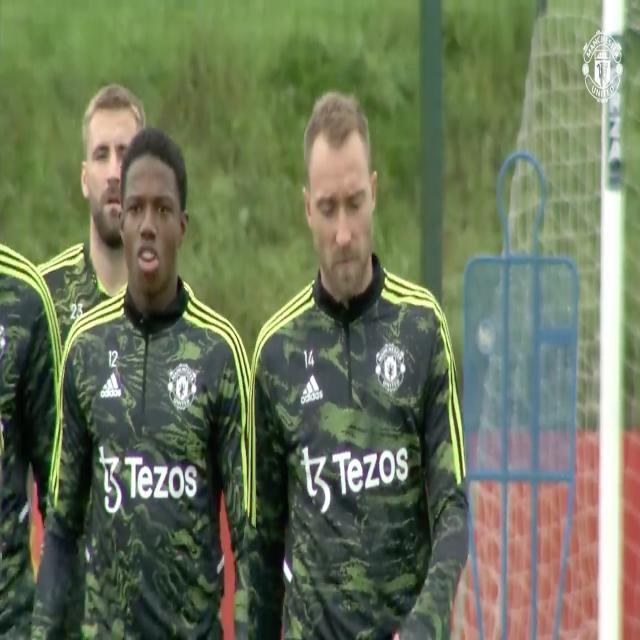Adidas: (300, 371, 325, 407), (99, 368, 124, 400)
